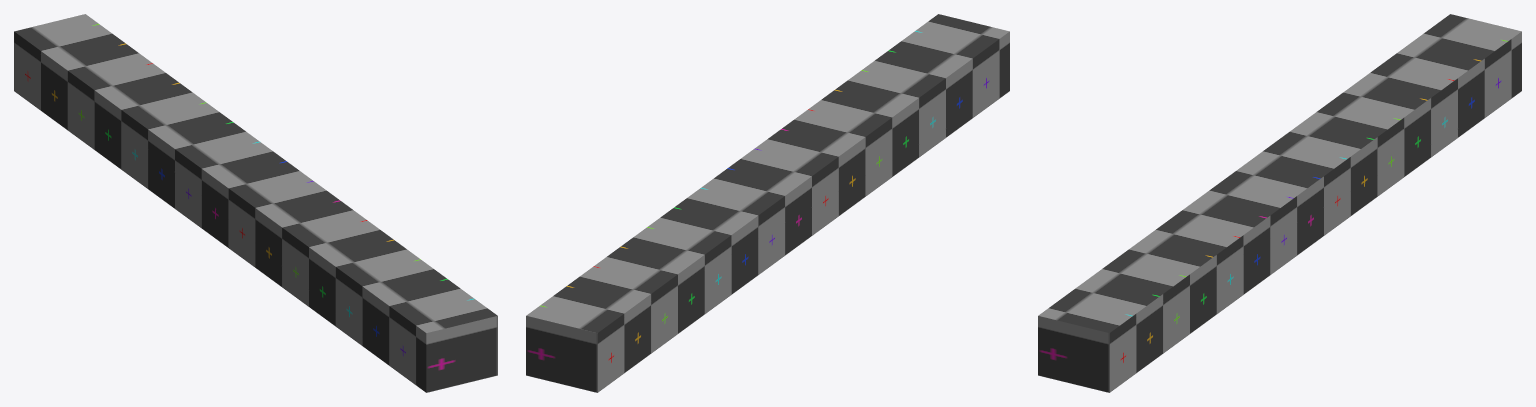
File: scenario_prototype_interior_floor_03_middle.fbx
The picture shows the model from 3 angles, left to right: view 1: azimuth 30°, elevation 25°; view 2: azimuth 150°, elevation 25°; view 3: azimuth 330°, elevation 25°; orthographic projection.
Visible parts, largest first — view 1: interior_floor03_middle; view 2: interior_floor03_middle; view 3: interior_floor03_middle.
Boxes of the visible parts, <box> form: interior_floor03_middle: <box>14,14,497,392</box>; interior_floor03_middle: <box>526,14,1009,392</box>; interior_floor03_middle: <box>1038,14,1521,392</box>.
Bounding box in the file's own units: 500 × 400 × 5000.
